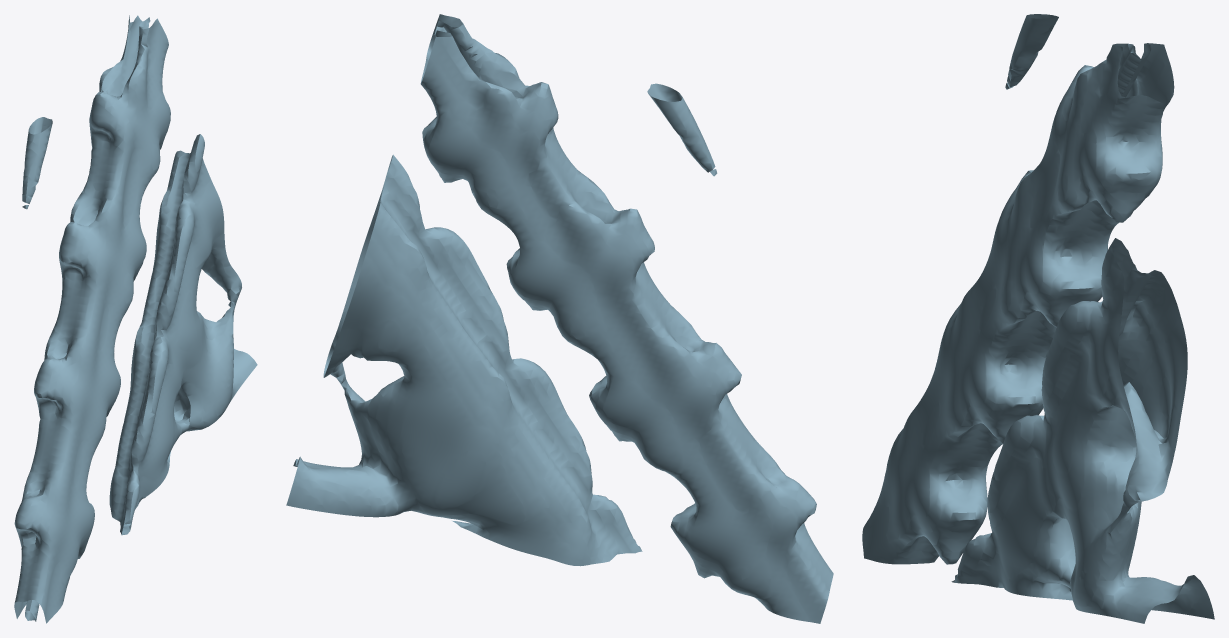
The model's file is detail.mollified.diff_stress.p90.glb.
3 views of the same model, side by side, from view 1: azimuth 30°, elevation 25°; view 2: azimuth 150°, elevation 25°; view 3: azimuth 270°, elevation 25° (orthographic). The views are drawn at different scales.
Parts seen in each view (by area): view 1: detail.mollified.diff_stress.p90; view 2: detail.mollified.diff_stress.p90; view 3: detail.mollified.diff_stress.p90.
Boxes of the visible parts, x1,y1,x2,y2 form: detail.mollified.diff_stress.p90: [14, 15, 257, 623]; detail.mollified.diff_stress.p90: [286, 14, 833, 623]; detail.mollified.diff_stress.p90: [862, 14, 1214, 623].
Bounding box in the file's own units: 1.41 × 1.98 × 0.9674.
